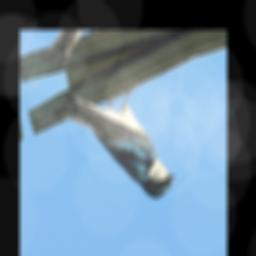Swallow: (49, 60, 179, 231)
